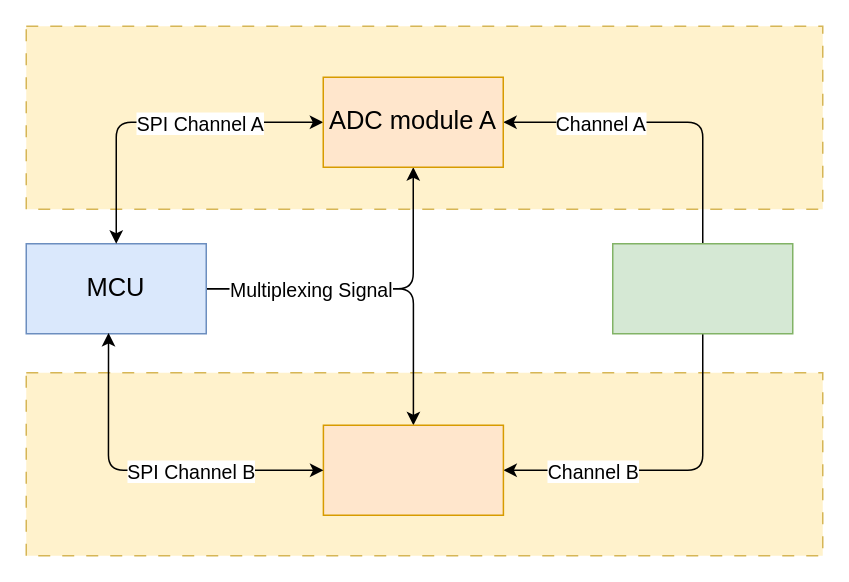
Image size: 849x582. Some labels were removed from this diagram. Here are the shapes that lost their labels. From the top down, the centre of each, then its label:
(702,288): LED module
(412,469): ADC module B
